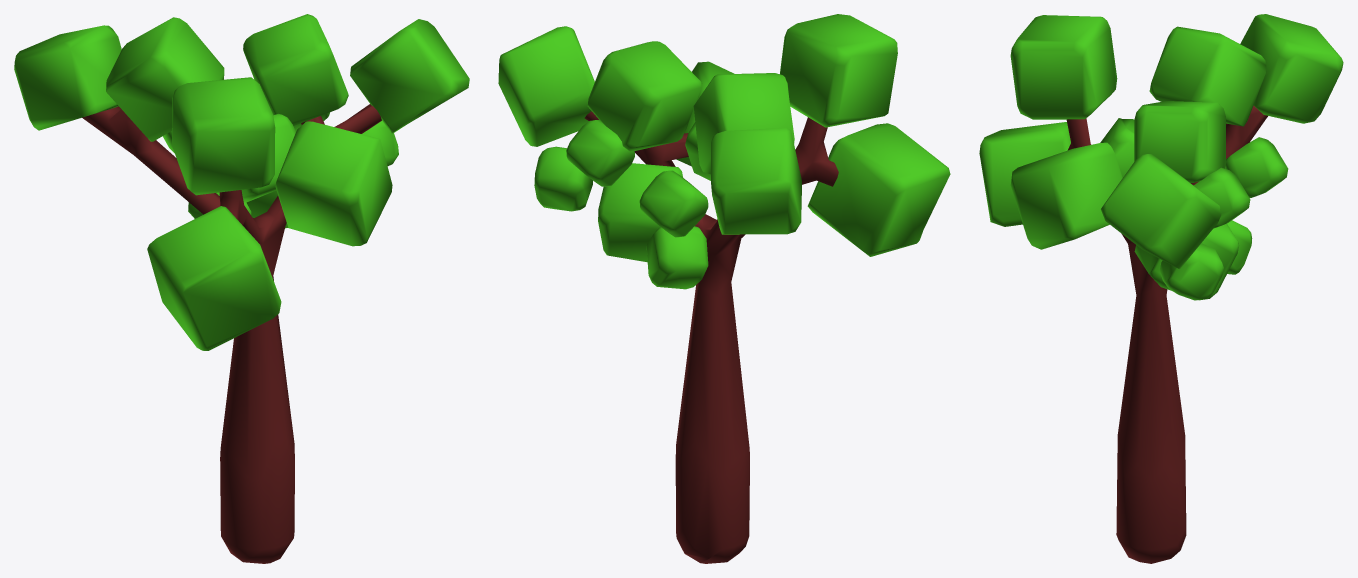
File: low-poly-tree.glb
The picture shows the model from 3 angles, left to right: view 1: azimuth 30°, elevation 25°; view 2: azimuth 150°, elevation 25°; view 3: azimuth 270°, elevation 25°; orthographic projection. The views are drawn at different scales.
Visible parts, largest first — view 1: Cube, Tree; view 2: Cube, Tree; view 3: Cube, Tree.
Part boxes in pixels (box(x1,y1,x2,y2)): Cube: box(14, 14, 469, 350); Tree: box(82, 104, 381, 563); Cube: box(498, 14, 950, 289); Tree: box(584, 111, 838, 563); Cube: box(979, 14, 1343, 300); Tree: box(1066, 105, 1267, 563).
Bounding box in the file's own units: 1.7 × 2.29 × 1.51.
